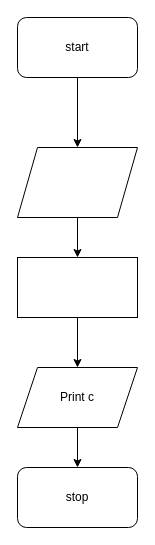
Image size: 155x545. Some labels were removed from this diagram. The shapes that lost their labels are listed below. From the top down, each one's centre as x and y in pixels, then its label:
point (77, 182): input degrees in farenheit
point (77, 287): c = (f-32)/(9.0/5.0)
